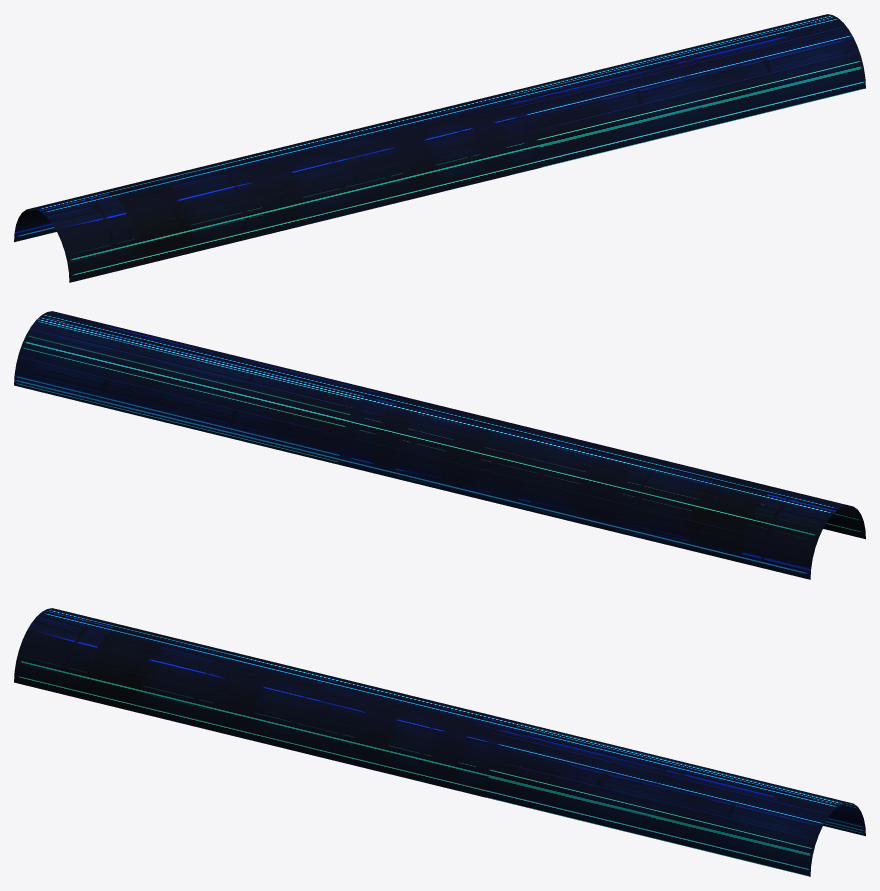
File: pipeline.glb
The picture shows the model from 3 angles, top to bottom: view 1: azimuth 30°, elevation 25°; view 2: azimuth 150°, elevation 25°; view 3: azimuth 330°, elevation 25°; orthographic projection.
Parts seen in each view (by area): view 1: pipeline; view 2: pipeline; view 3: pipeline.
Part boxes in pixels (x1=…): pipeline: x1=14, y1=14, x2=865, y2=282; pipeline: x1=14, y1=311, x2=865, y2=579; pipeline: x1=14, y1=608, x2=865, y2=876.
Size of the model in its own units: 262 by 15.81 by 31.63.
1 material, 1 textured.
